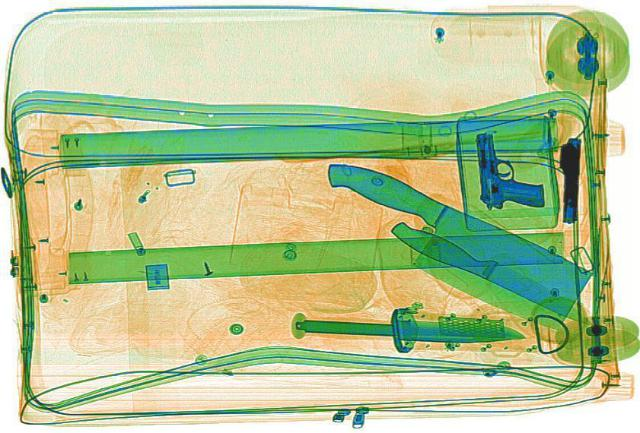Gun: (472, 131, 544, 209), (552, 136, 582, 223)
Knife: (276, 154, 618, 333), (382, 215, 604, 330), (298, 313, 524, 345)
